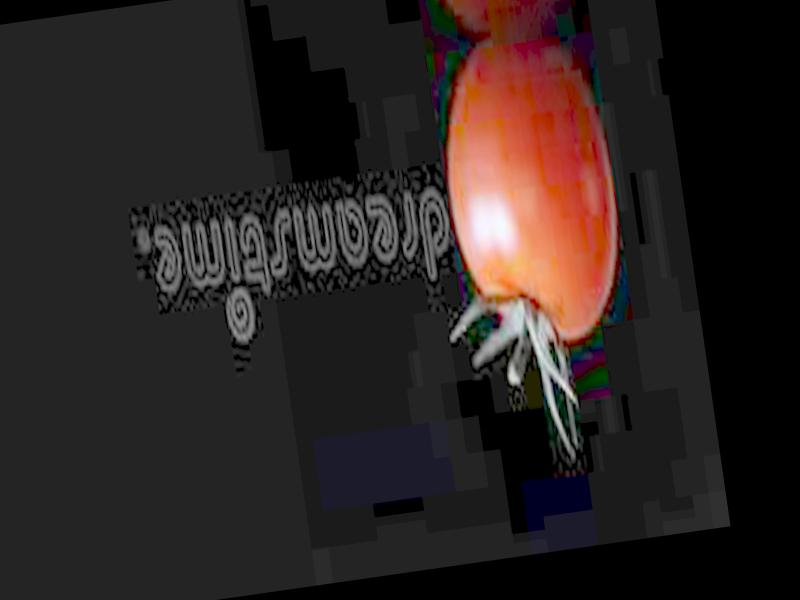Tomato: (430, 31, 632, 355)
